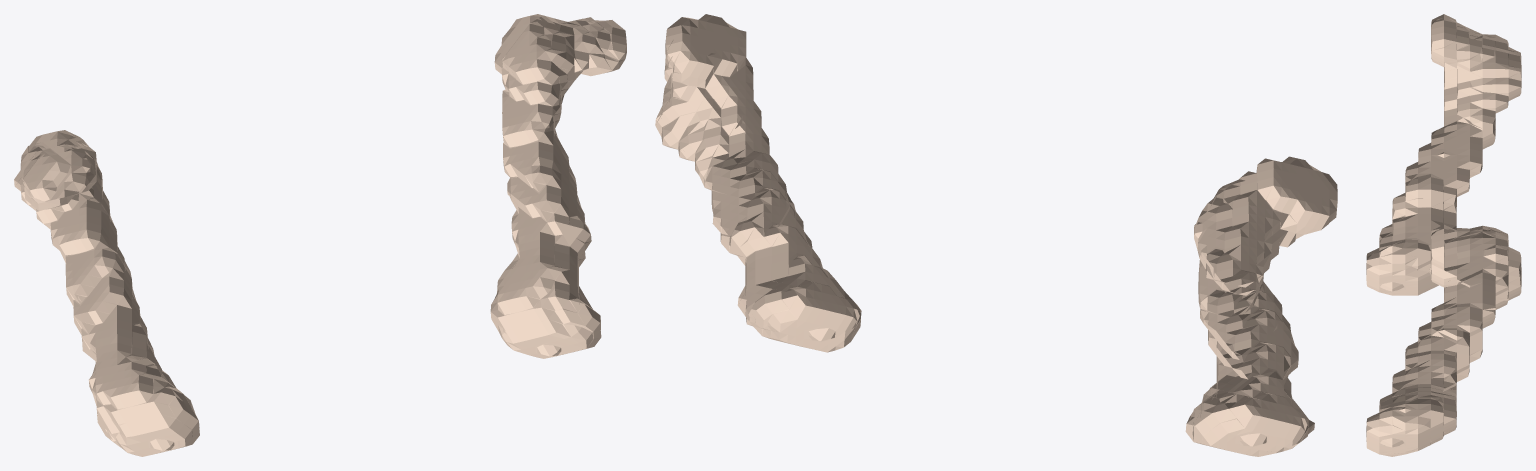
File: VFB_00102119.glb
3 views of the same model, side by side, from view 1: azimuth 30°, elevation 25°; view 2: azimuth 150°, elevation 25°; view 3: azimuth 270°, elevation 25° (orthographic). The views are drawn at different scales.
Visible parts, largest first — view 1: VFB_00102119; view 2: VFB_00102119; view 3: VFB_00102119.
Part boxes in pixels (left/top/right/bottom): VFB_00102119: left=14, top=14, right=626, bottom=456; VFB_00102119: left=655, top=14, right=1337, bottom=456; VFB_00102119: left=1366, top=14, right=1521, bottom=456.
Size of the model in its own units: 0.1745 by 0.0831 by 0.0471.
